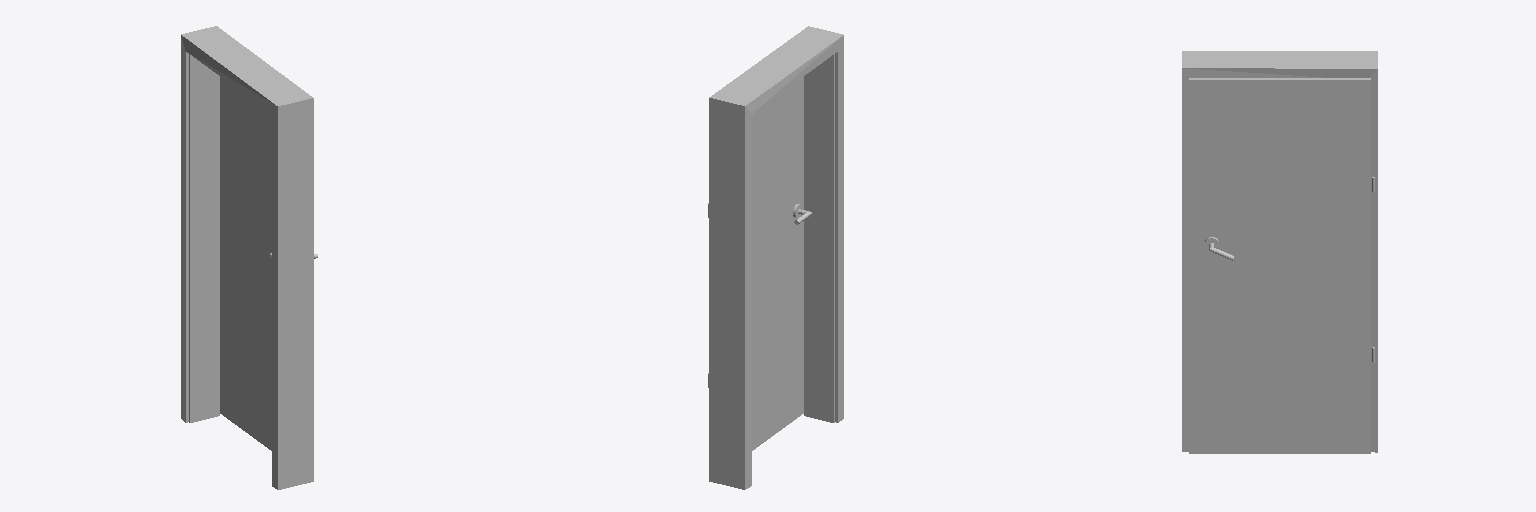
File: door58.obj
3 views of the same model, side by side, from view 1: azimuth 30°, elevation 25°; view 2: azimuth 150°, elevation 25°; view 3: azimuth 270°, elevation 25° (orthographic).
Parts seen in each view (by area): view 1: Cylinder.005, Cylinder.001; view 2: Cylinder.005, Cylinder.001; view 3: Cylinder.001, Cylinder.005.
Part boxes in pixels (x1,y1,x2,y2): Cylinder.005: (181,26,313,489); Cylinder.001: (220,77,271,450); Cylinder.005: (708,26,843,489); Cylinder.001: (708,77,803,450); Cylinder.001: (1189,78,1374,453); Cylinder.005: (1182,51,1377,452).
Size of the model in its own units: 0.3039 by 2.05 by 0.95.